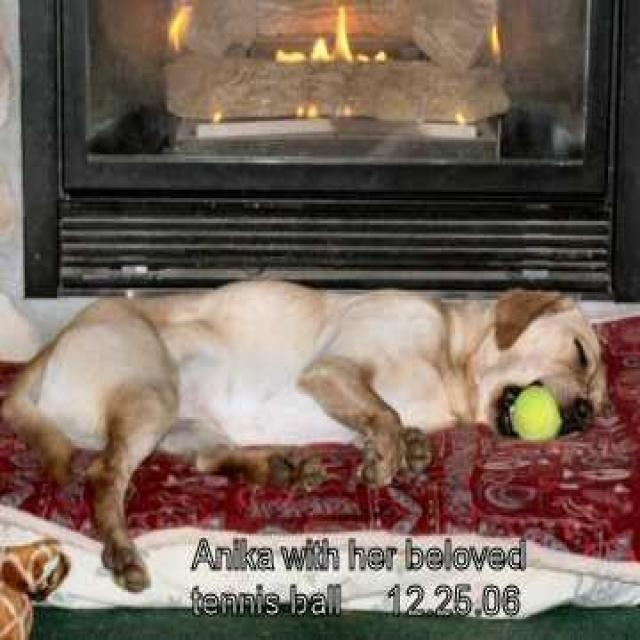Tennis_Ball: (518, 388, 569, 446)
